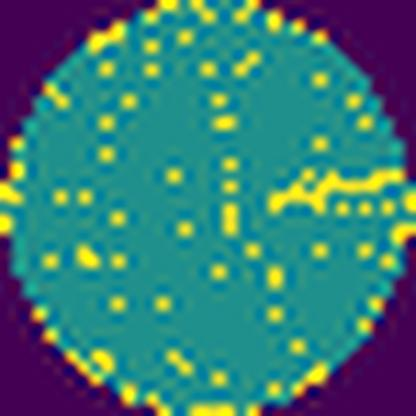Scratch: (268, 162, 406, 218)
